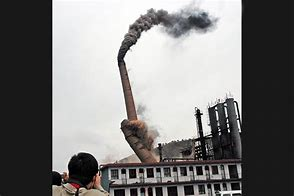smoke: (116, 6, 218, 58)
